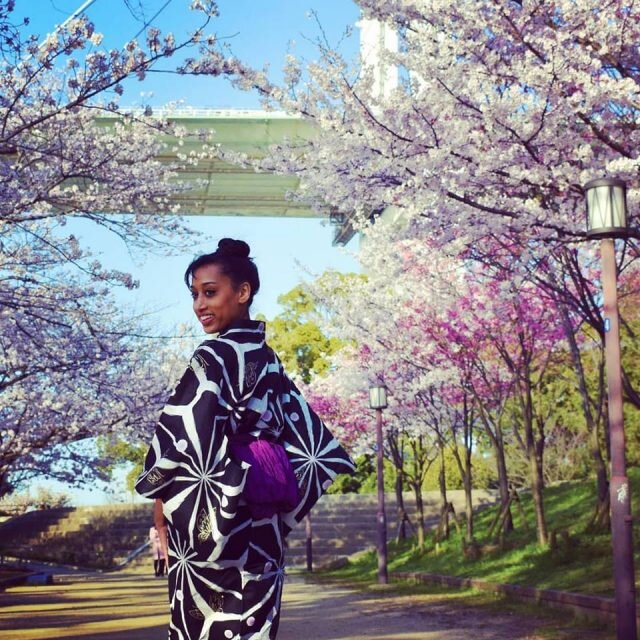human: (176, 254, 260, 337)
